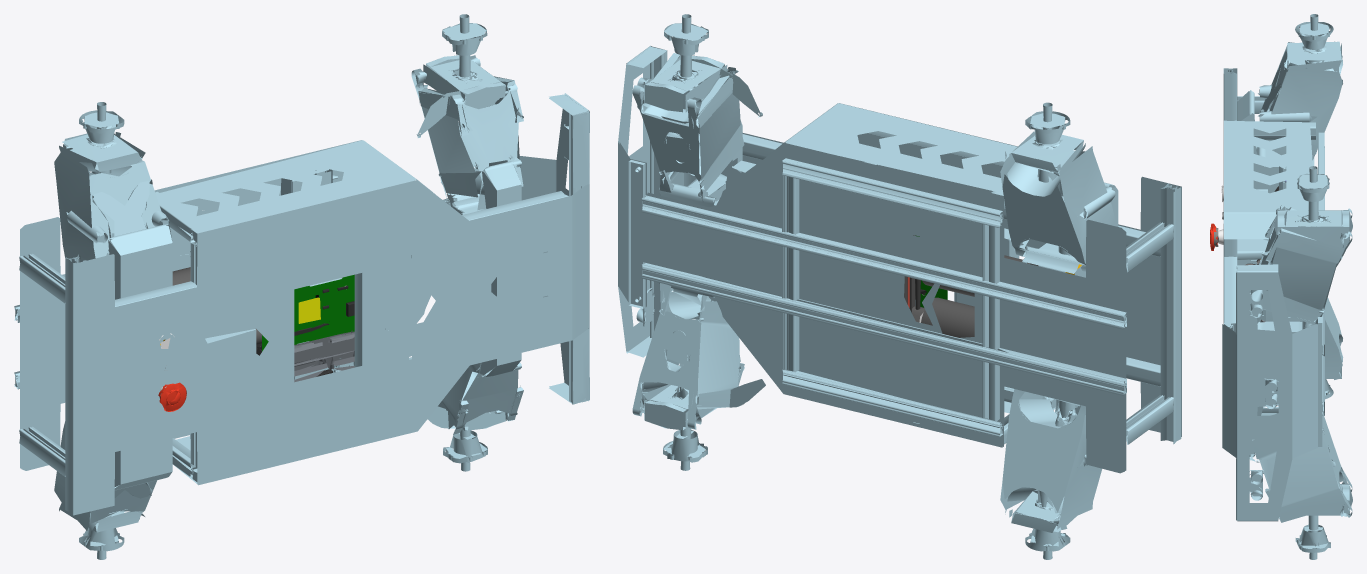
Rendered from vehicle_visual.obj.
3 views of the same model, side by side, from view 1: azimuth 30°, elevation 25°; view 2: azimuth 150°, elevation 25°; view 3: azimuth 270°, elevation 25° (orthographic). The views are drawn at different scales.
Visible parts, largest first — view 1: 车上板_2_1_1.001, HouQiao, 组装-前驱动总成_1_023, 车底板_2_1_2.001, 侧板_1.001, 前保险杠_2_1_001.001, pcb, 前保险杠_2_1_1.001, 350_默认_按加工__1_2_1_1.001, 风扇80_2_1_1_1.001, 横梁_默认_按加工__1_2_1_1.001, 支柱_默认_按加工__1_2_1_003.001 (+8 smaller); view 2: 车底板_2_1_2.001, 组装-前驱动总成_1_023, HouQiao, 侧板_1.001, GY-OB-1020型材[GY-OB-1020]_GY-OB-1020_1_2_1_1.001, GY-OB-1020型材[GY-OB-1020]_GY-OB-1020_1_2_1_001.001, 加强板_1_2_1_1.001, 车上板_2_1_1.001, 350_默认_按加工__1_2_1_1.001, GY-OB-1020型材[GY-OB-1020]侧梁_GY-OB-1020_1_2_1_1.001, 前保险杠_2_1_001.001, GY-OB-1020型材[GY-OB-1020]侧梁_GY-OB-1020_1_2_1_001.001 (+16 smaller); view 3: 组装-前驱动总成_1_023, 前保险杠_2_1_001.001, HouQiao, 侧板_1.001, 前保险杠_2_1_1.001, 横梁_默认_按加工__1_2_1_1.001, 350_默认_按加工__1_2_1_1.001, 12法兰_1_2_1_1.001, 12法兰_1_2_1_002.001, 12法兰_1_2_1_003.001, 加强板_1_2_1_1.001, 手柄信号接收器_5_3_1.001 (+9 smaller).
Boxes of the visible parts, box(x1,y1,x2,y2) form: 车上板_2_1_1.001: box(73, 180, 555, 514); HouQiao: box(54, 132, 261, 532); 组装-前驱动总成_1_023: box(411, 55, 523, 434); 车底板_2_1_2.001: box(20, 140, 431, 470); 侧板_1.001: box(156, 140, 434, 233); 前保险杠_2_1_001.001: box(519, 93, 589, 403); pcb: box(262, 274, 354, 382); 前保险杠_2_1_1.001: box(519, 111, 589, 379); 350_默认_按加工__1_2_1_1.001: box(65, 254, 86, 515); 风扇80_2_1_1_1.001: box(204, 329, 256, 378); 横梁_默认_按加工__1_2_1_1.001: box(115, 191, 568, 306); 支柱_默认_按加工__1_2_1_003.001: box(19, 426, 65, 476); 车底板_2_1_2.001: box(646, 143, 1126, 473); 组装-前驱动总成_1_023: box(632, 53, 765, 430); HouQiao: box(912, 131, 1118, 532); 侧板_1.001: box(768, 103, 1017, 193); GY-OB-1020型材[GY-OB-1020]_GY-OB-1020_1_2_1_1.001: box(641, 195, 1126, 329); GY-OB-1020型材[GY-OB-1020]_GY-OB-1020_1_2_1_001.001: box(642, 263, 1126, 395); 加强板_1_2_1_1.001: box(628, 160, 781, 308); 车上板_2_1_1.001: box(742, 103, 1181, 436); 350_默认_按加工__1_2_1_1.001: box(1160, 183, 1181, 444); GY-OB-1020型材[GY-OB-1020]侧梁_GY-OB-1020_1_2_1_1.001: box(782, 158, 1003, 227); 前保险杠_2_1_001.001: box(618, 45, 696, 357); GY-OB-1020型材[GY-OB-1020]侧梁_GY-OB-1020_1_2_1_001.001: box(782, 369, 1003, 436); 组装-前驱动总成_1_023: box(1249, 205, 1352, 522); 前保险杠_2_1_001.001: box(1222, 264, 1317, 521); HouQiao: box(1237, 41, 1343, 379); 侧板_1.001: box(1224, 120, 1312, 239); 前保险杠_2_1_1.001: box(1222, 272, 1317, 520); 横梁_默认_按加工__1_2_1_1.001: box(1223, 120, 1237, 332); 350_默认_按加工__1_2_1_1.001: box(1223, 68, 1237, 120); 12法兰_1_2_1_1.001: box(1295, 22, 1333, 49); 12法兰_1_2_1_002.001: box(1295, 524, 1330, 552); 12法兰_1_2_1_003.001: box(1297, 173, 1329, 201); 加强板_1_2_1_1.001: box(1318, 317, 1322, 446); 手柄信号接收器_5_3_1.001: box(1237, 239, 1268, 259).
Bounding box in the file's own units: 0.7616 × 0.6302 × 0.2091.
